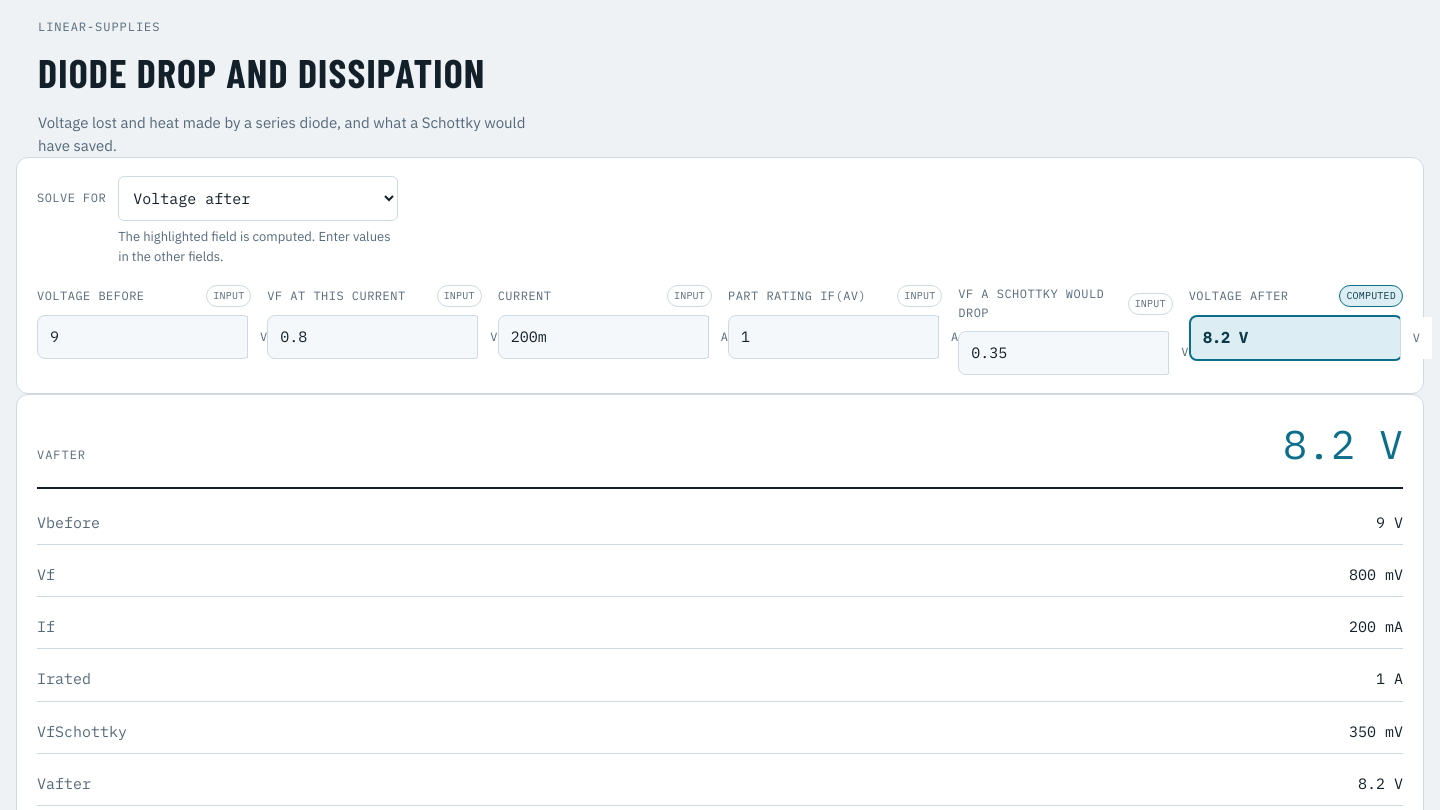
Test: DiodeView › warns when If exceeds Irated
Replace the text in the field labelled "Current" with "2": (603, 337) [499,316,708,358]
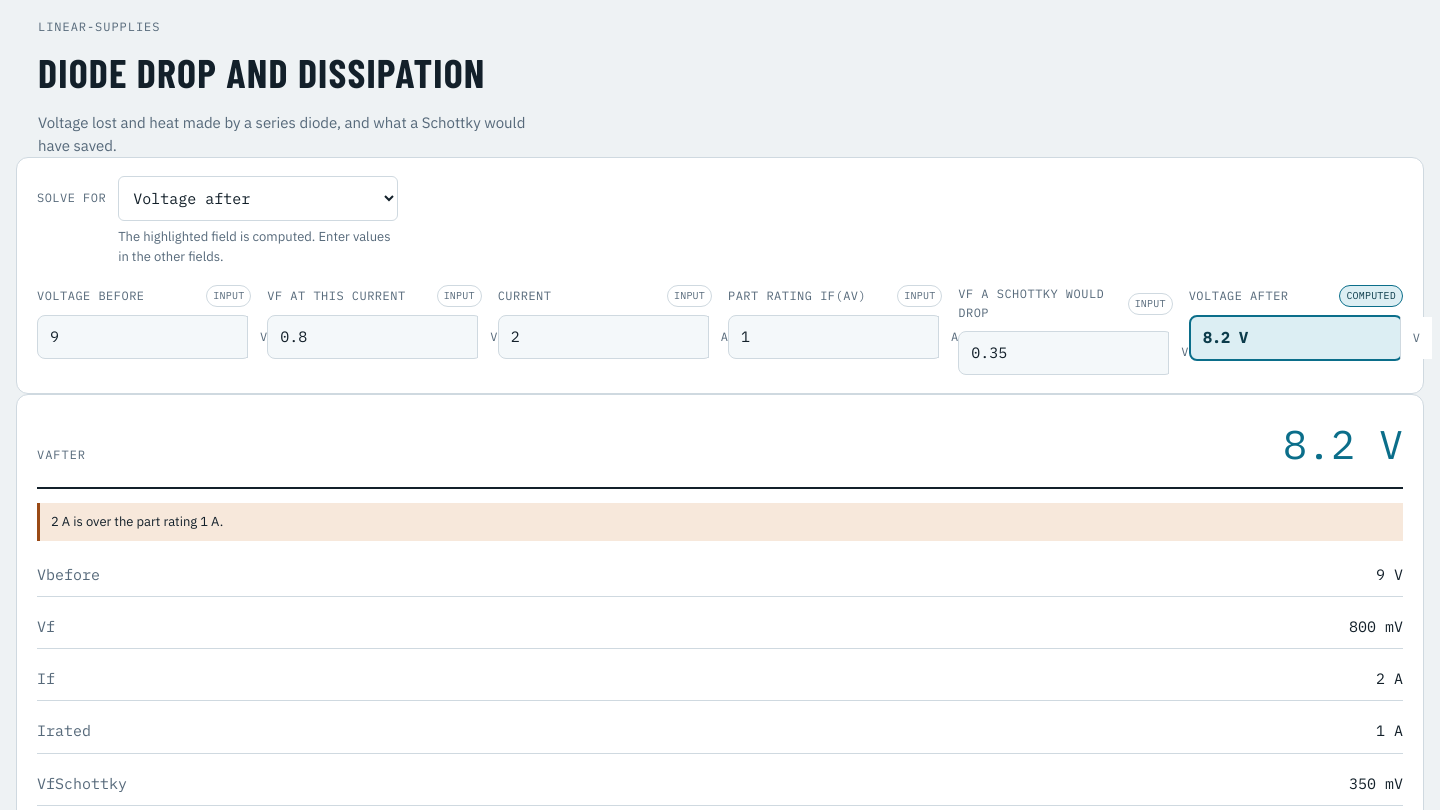
Expected: the text "2 A is over the part rating 1 A." is shown, [37,503,1403,541]
